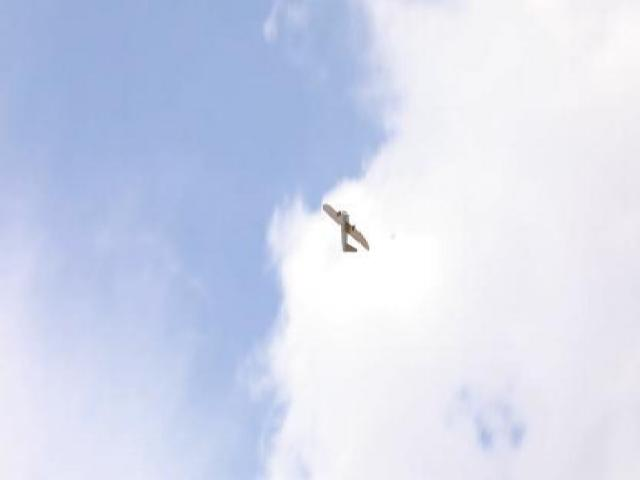uav: (323, 200, 371, 260)
